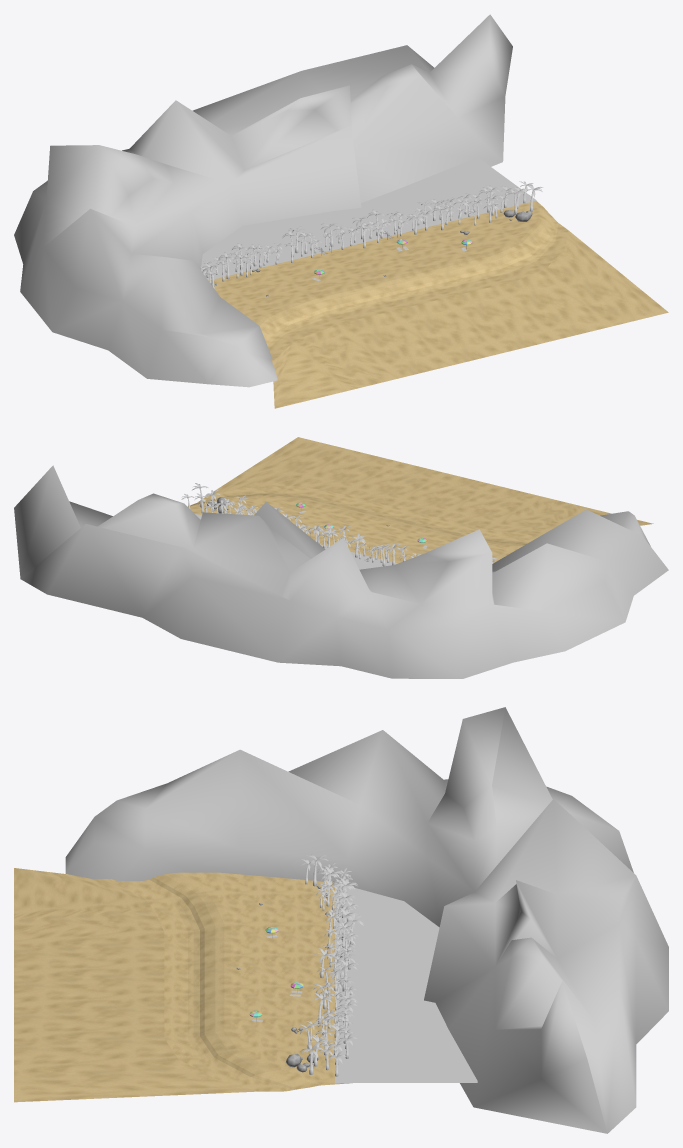
The picture shows the model from 3 angles, top to bottom: view 1: azimuth 30°, elevation 25°; view 2: azimuth 150°, elevation 25°; view 3: azimuth 270°, elevation 25°; orthographic projection. The views are drawn at different scales.
Visible parts, largest first — view 1: Cube.001, Plane, Plane.001, Plane.002; view 2: Cube.001, Plane; view 3: Cube.001, Plane, Plane.001, Plane.002.
Part boxes in pixels (<box>): Cube.001: <box>14,14,512,387</box>; Plane: <box>208,201,668,408</box>; Plane.001: <box>201,157,526,272</box>; Plane.002: <box>203,193,536,280</box>; Cube.001: <box>14,465,668,678</box>; Plane: <box>188,437,653,563</box>; Cube.001: <box>65,707,668,1133</box>; Plane: <box>14,868,352,1102</box>; Plane.001: <box>357,889,477,1082</box>; Plane.002: <box>335,883,357,1082</box>.
Bounding box in the file's own units: 125239 × 26633 × 102467.
